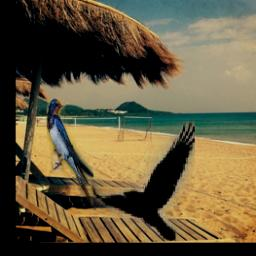Crow: (91, 121, 196, 241)
Swallow: (47, 99, 93, 207)
